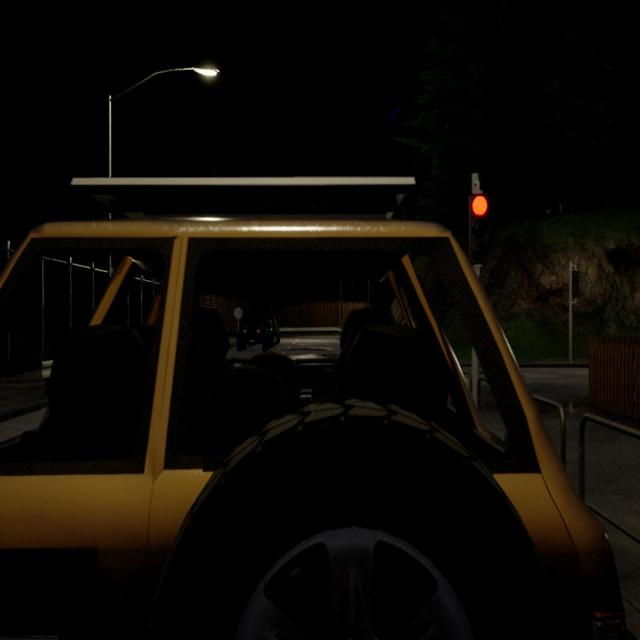Traffic_Signs: (233, 307, 243, 320)
Vehicle: (0, 179, 629, 640), (236, 311, 280, 351)
traffic_light: (469, 193, 491, 266), (572, 270, 580, 299)
